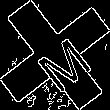M_NW: (21, 21, 89, 89)
